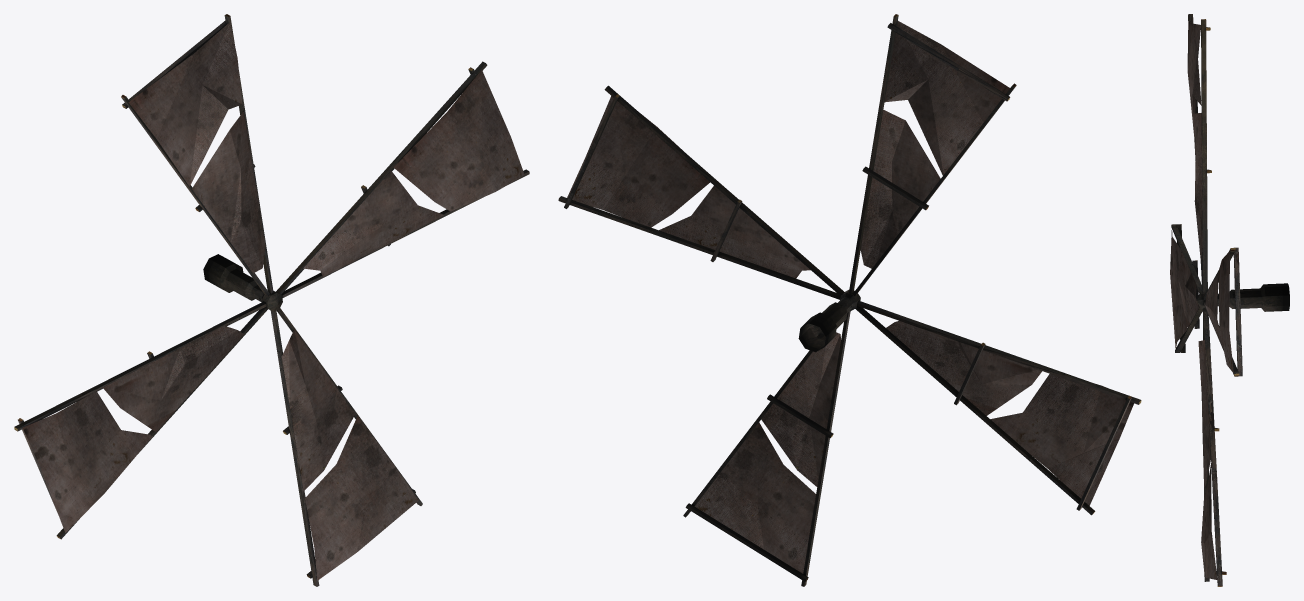
The model's file is wheel.obj.
The picture shows the model from 3 angles, left to right: view 1: azimuth 30°, elevation 25°; view 2: azimuth 150°, elevation 25°; view 3: azimuth 270°, elevation 25°; orthographic projection. The views are drawn at different scales.
Parts seen in each view (by area): view 1: mill; view 2: mill; view 3: mill.
Boxes of the visible parts, box(x1,y1,x2,y2) form: mill: box(14, 14, 529, 586); mill: box(558, 14, 1141, 586); mill: box(1170, 14, 1289, 586).
Size of the model in its own units: 27.45 by 28.4 by 5.9.
1 material, 1 textured.
